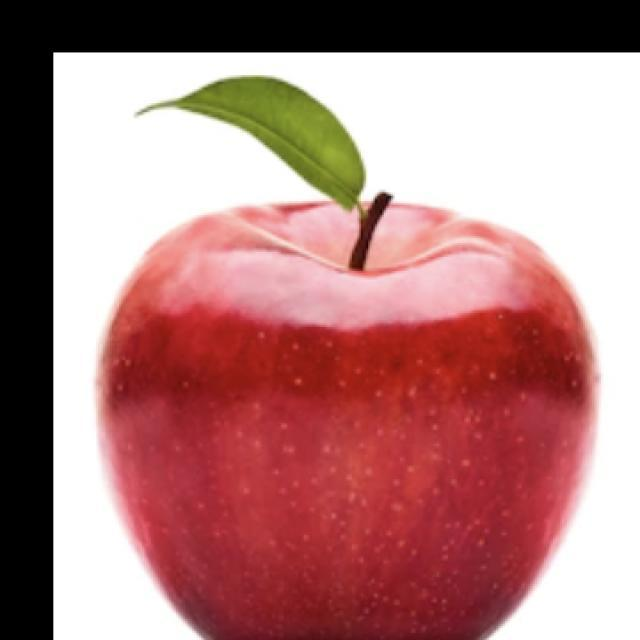Fresh Apple: (96, 190, 593, 640)
